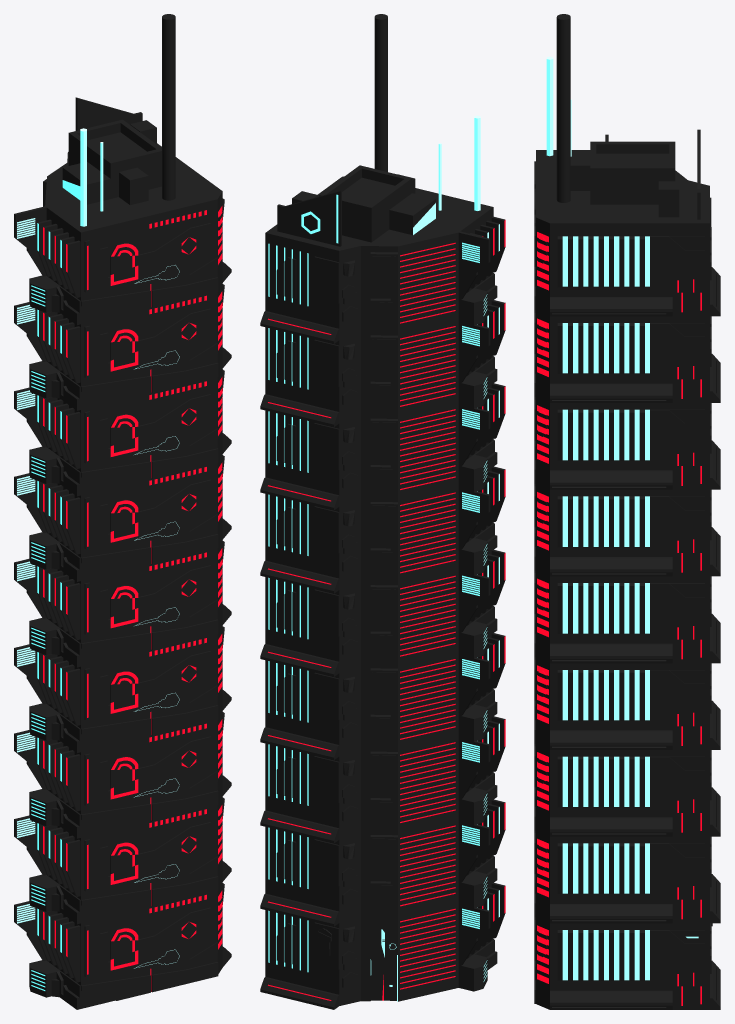
3 views of the same model, side by side, from view 1: azimuth 30°, elevation 25°; view 2: azimuth 150°, elevation 25°; view 3: azimuth 270°, elevation 25° (orthographic). The views are drawn at different scales.
Parts seen in each view (by area): view 1: Object_16, Object_15, Object_14, Object_13, Object_12; view 2: Object_16, Object_14, Object_15, Object_13, Object_12; view 3: Object_16, Object_14, Object_15, Object_12, Object_13.
Boxes of the visible parts, box(x1,y1,x2,y2) form: Object_16: box(14, 14, 231, 1009); Object_15: box(14, 369, 231, 667); Object_14: box(14, 626, 231, 924); Object_13: box(43, 206, 222, 991); Object_12: box(17, 128, 179, 990); Object_16: box(260, 14, 505, 1009); Object_14: box(260, 633, 505, 926); Object_15: box(260, 383, 505, 676); Object_13: box(268, 220, 505, 1000); Object_12: box(268, 115, 499, 1001); Object_16: box(534, 14, 720, 1009); Object_14: box(534, 657, 720, 923); Object_15: box(534, 397, 720, 663); Object_12: box(546, 56, 698, 980); Object_13: box(537, 232, 701, 1005).
Bounding box in the file's own units: 12.69 × 61.52 × 10.71.
